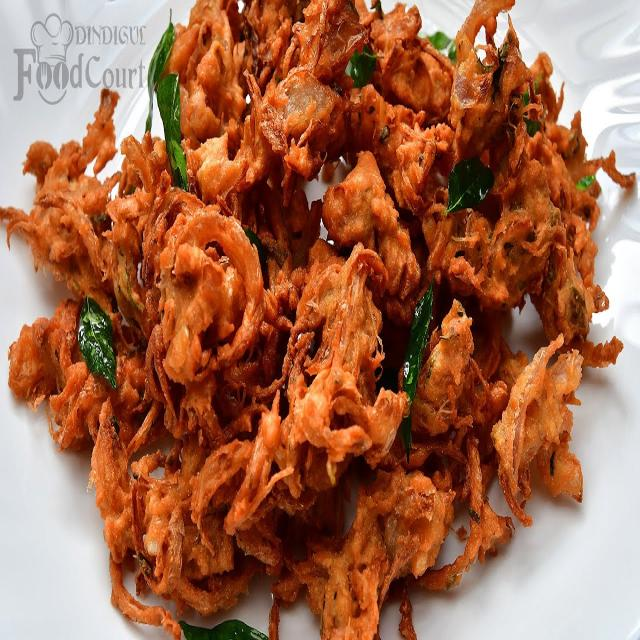BAJI: (2, 0, 616, 639)
